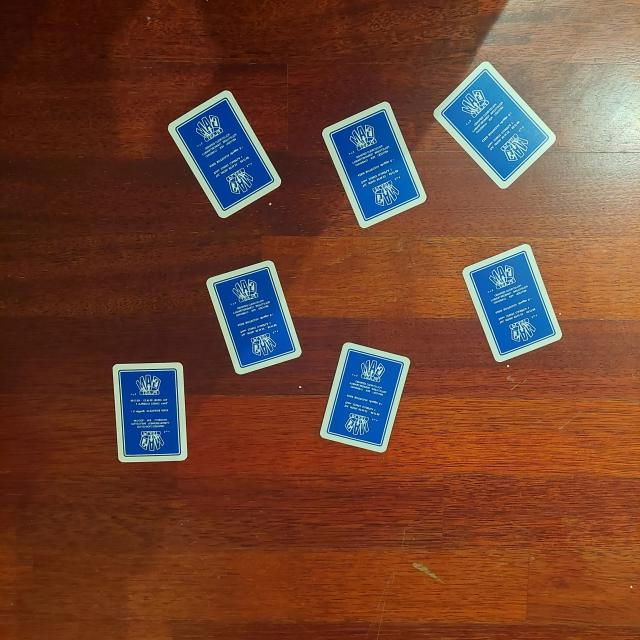card: (434, 57, 556, 191), (168, 92, 282, 220), (320, 99, 426, 230), (464, 242, 562, 364), (206, 258, 303, 376), (319, 340, 413, 455), (112, 361, 189, 465)
